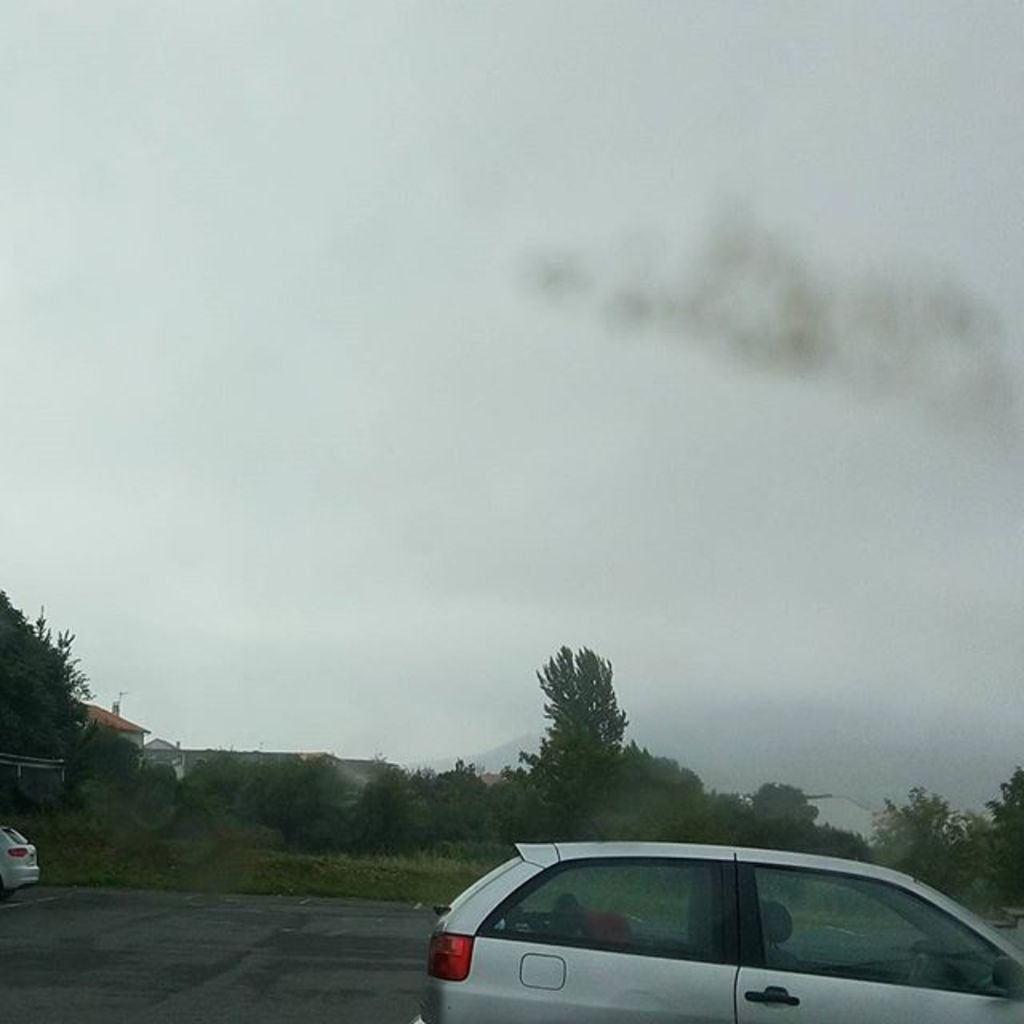Car: (420, 839, 1022, 1022), (0, 819, 38, 894)
